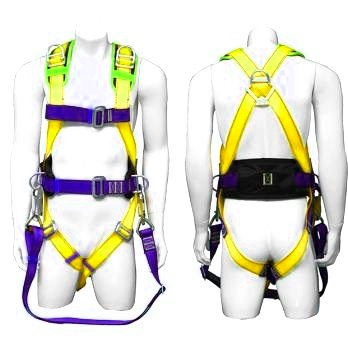safety belt: (205, 56, 338, 293), (31, 54, 150, 279)
